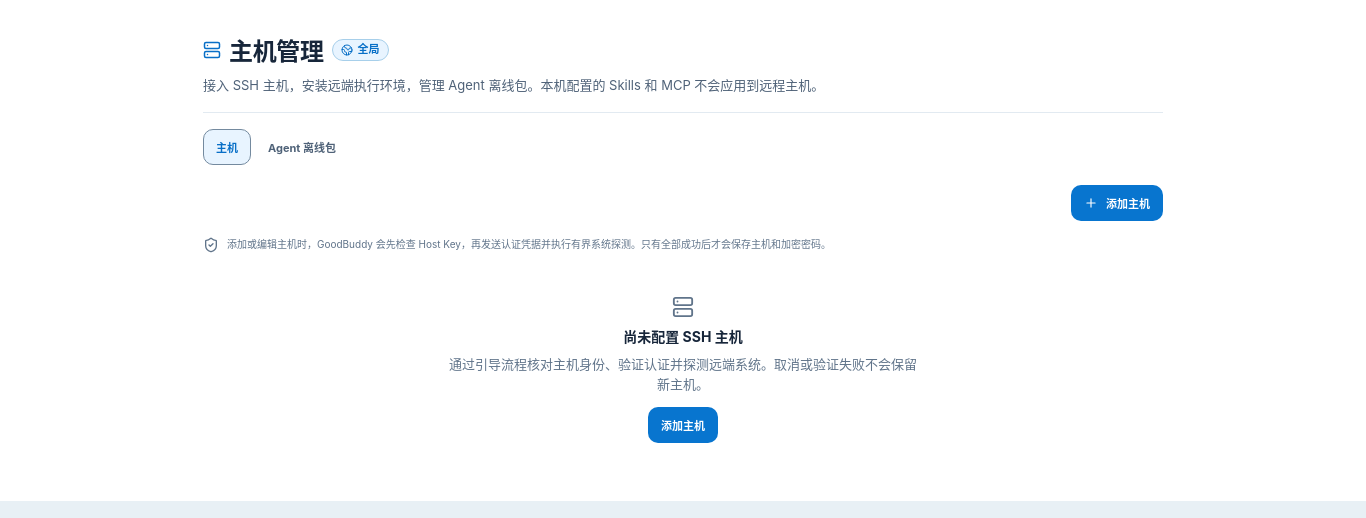
Scenario: RemoteHostsPage › shows hosts when enabled and keeps every tab panel mounted while switching
Expected: the text "尚未配置 SSH 主机" is shown, [623,326,743,346]
Step 1. Click the tab "Agent 离线包" → point(302, 147), box [255,129,349,165]
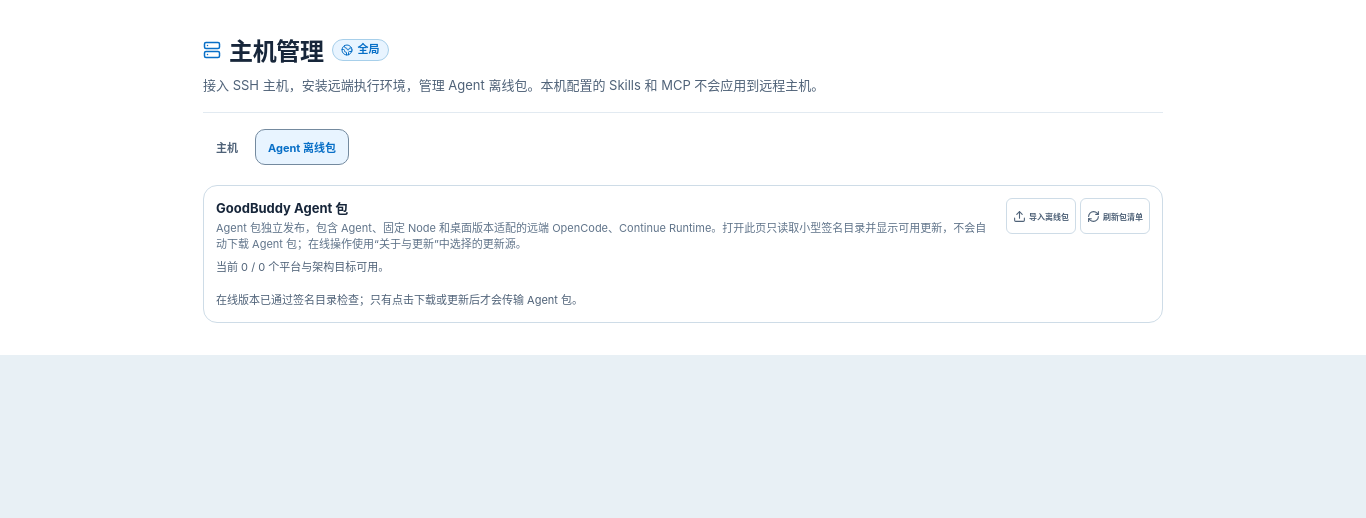
Result: the text "GoodBuddy Agent 包" is shown at [216,200,348,216]
Result: the text "尚未配置 SSH 主机" is gone
Step 2. Click the tab "主机" → point(227, 147), box [203,129,251,165]
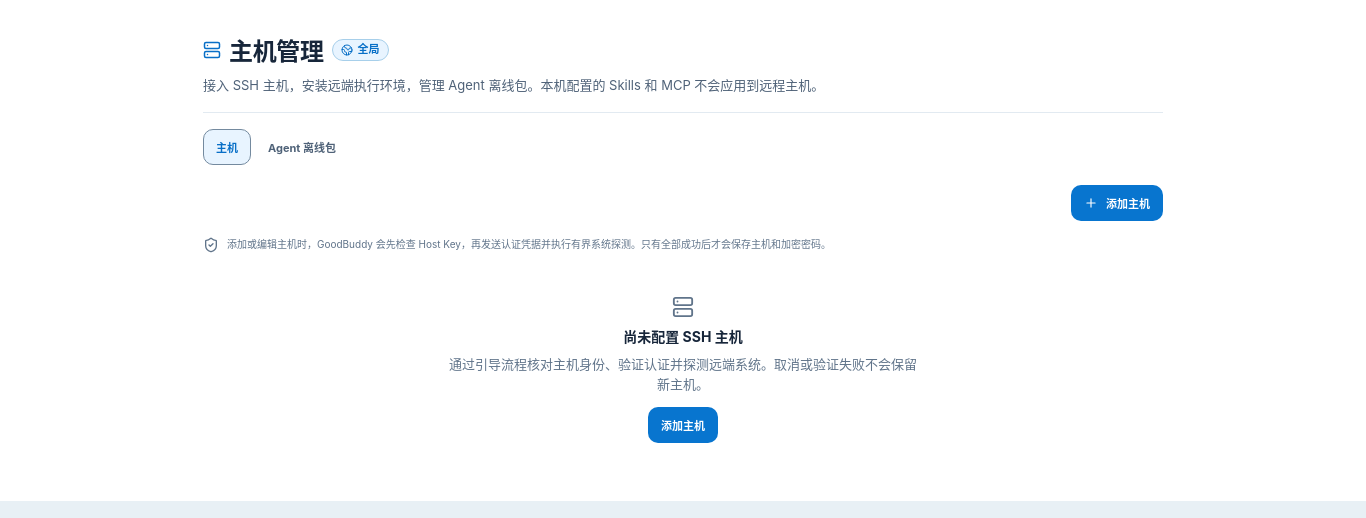
Result: the text "尚未配置 SSH 主机" is shown at [623,326,743,346]
